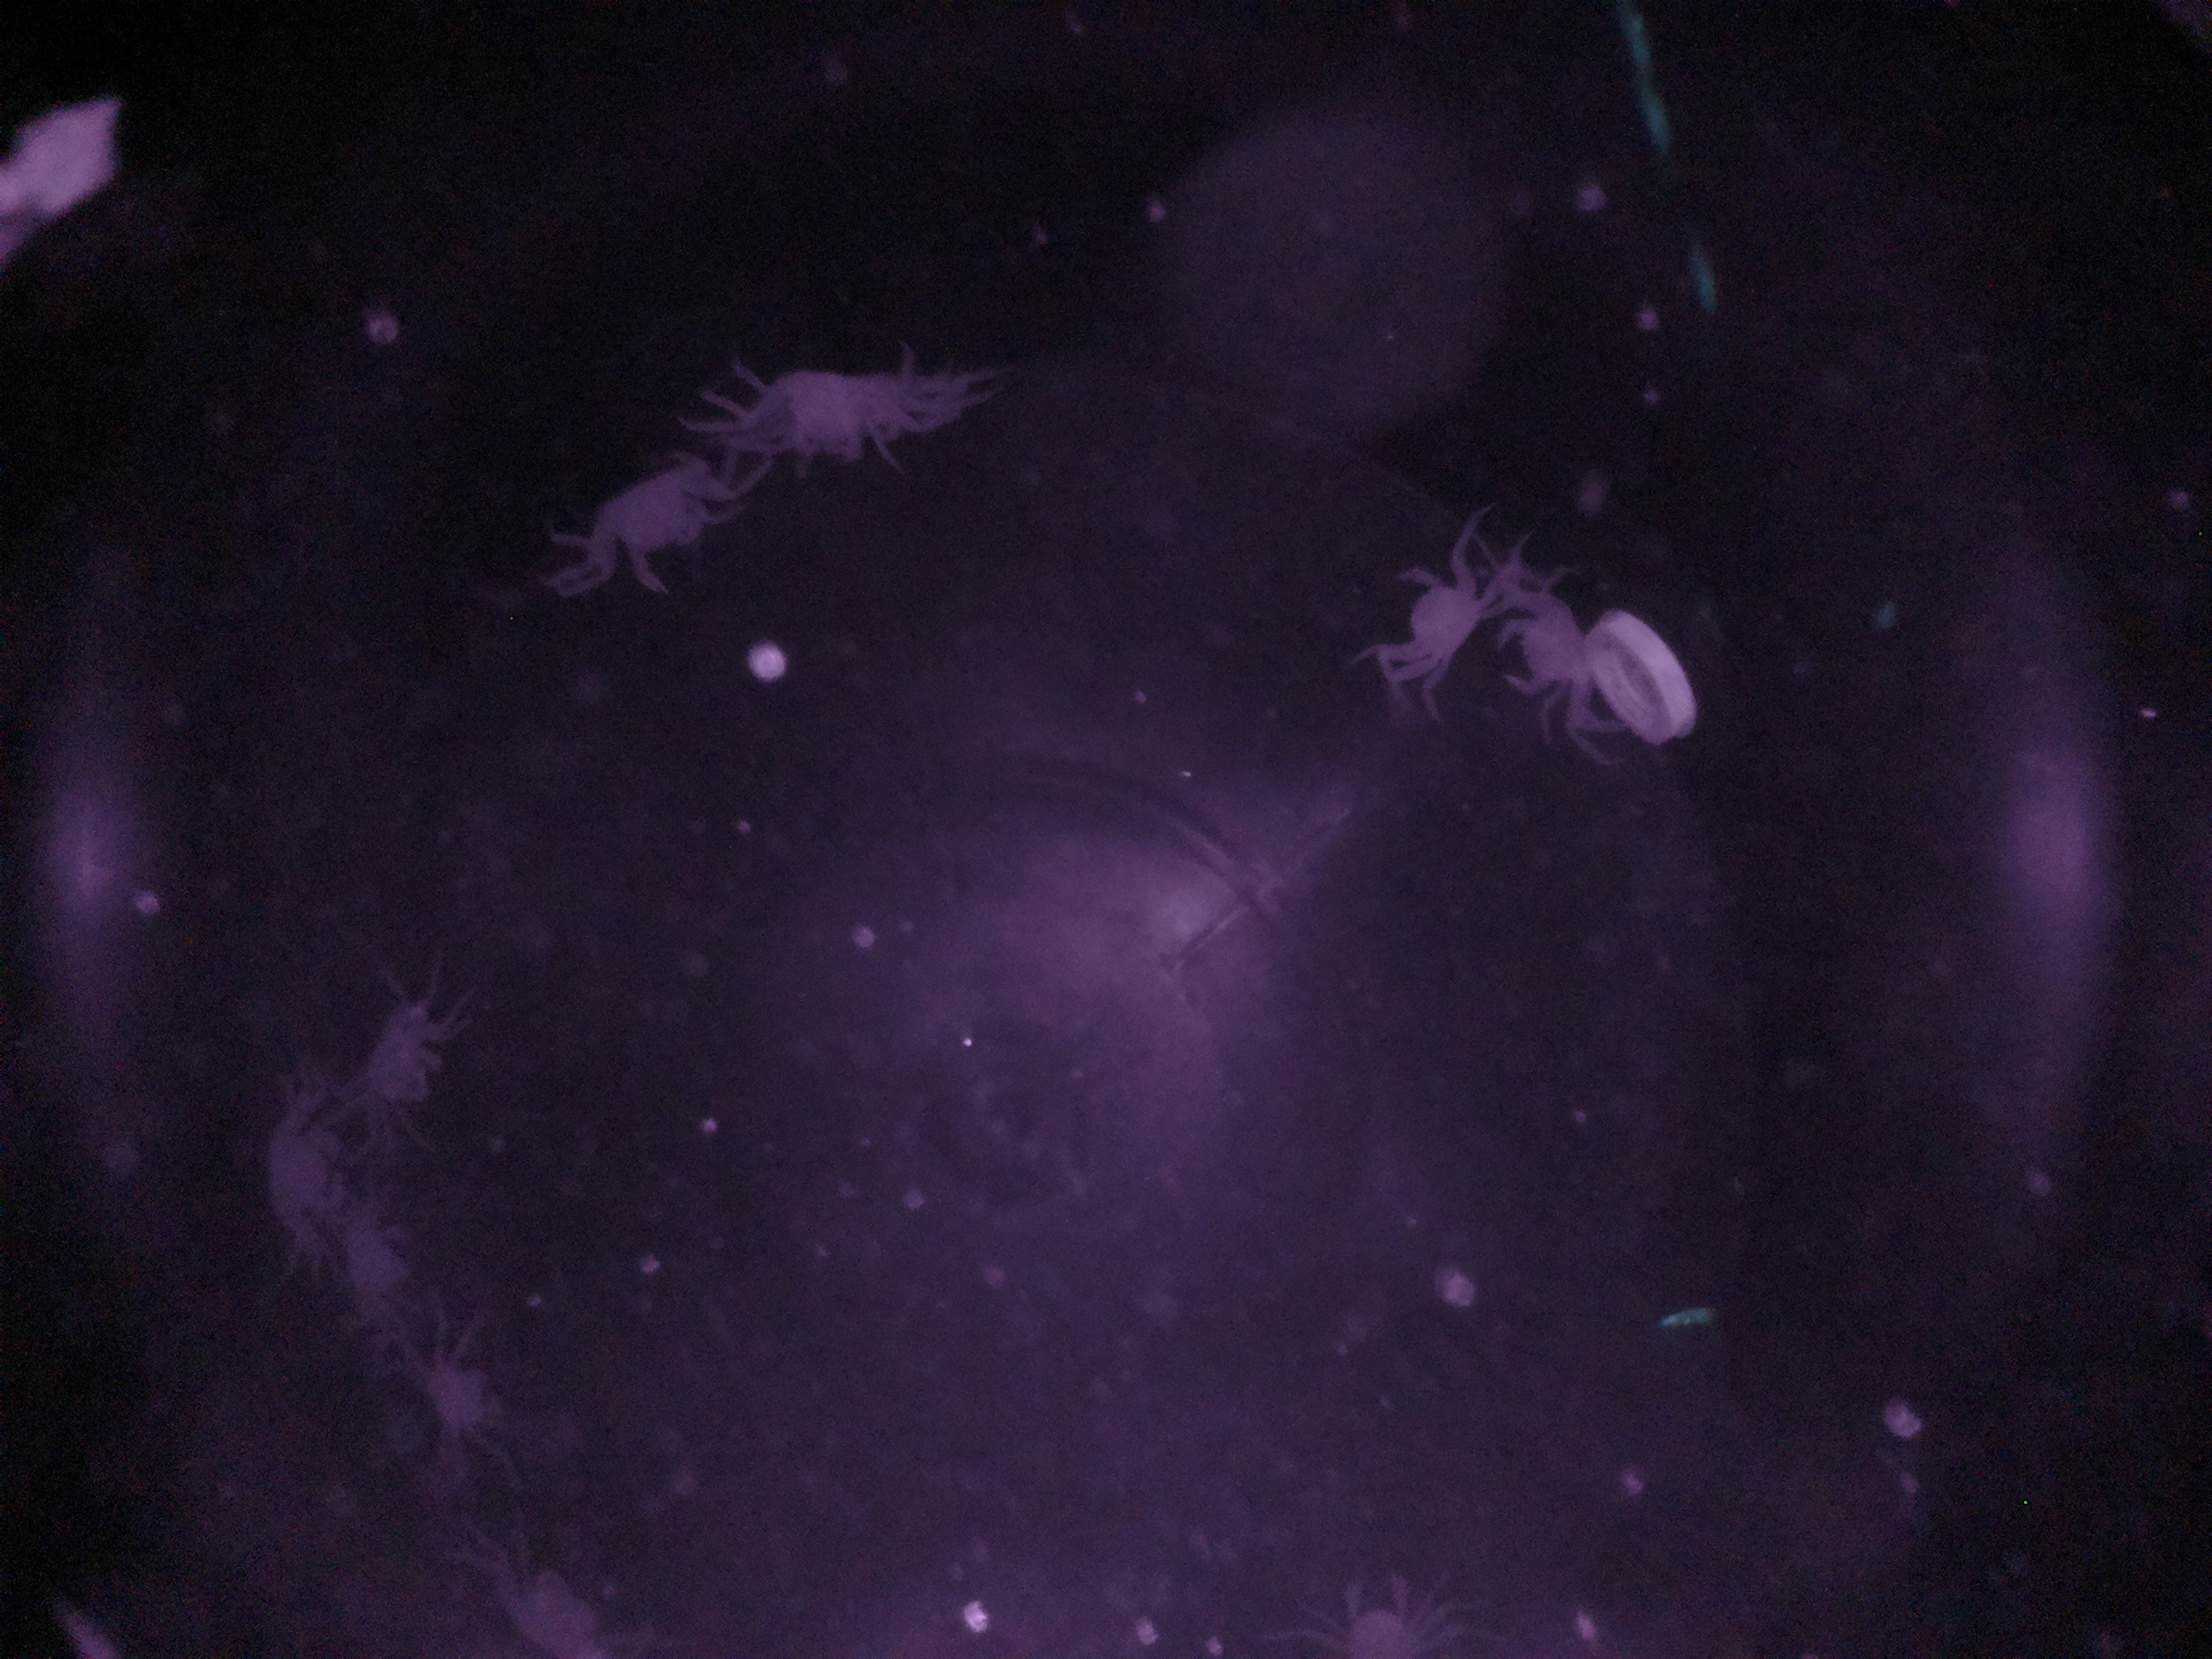Crab: (561, 437, 751, 610), (1493, 582, 1629, 760), (1379, 532, 1510, 694)
